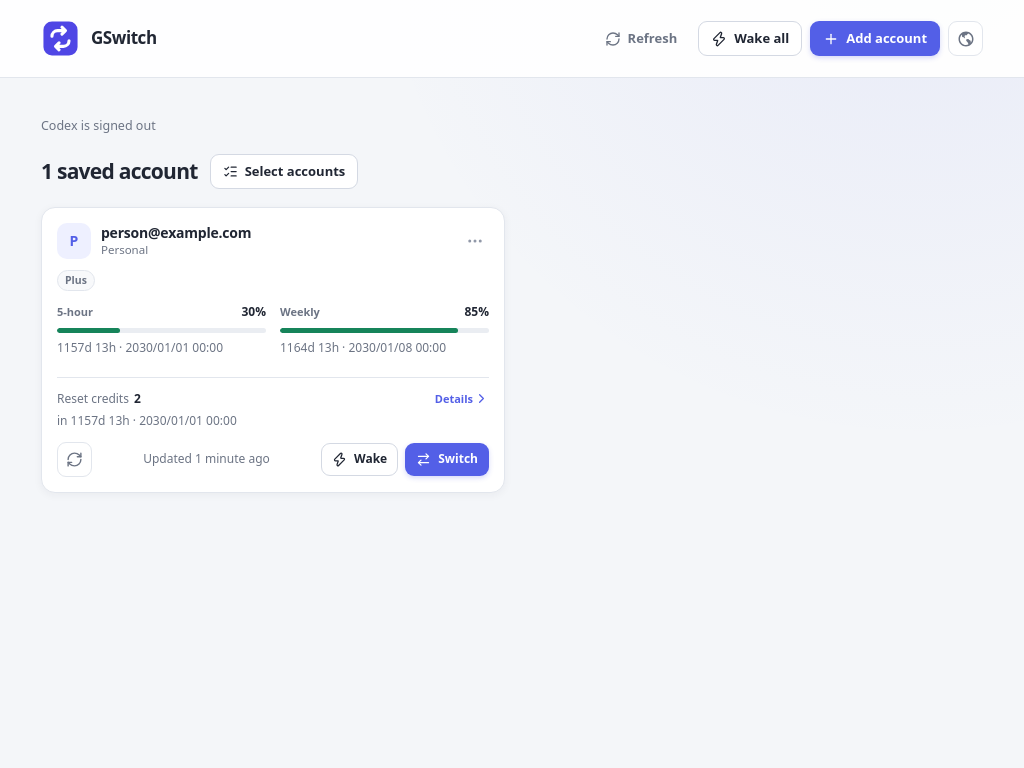
Test case: GSwitch account workspace › keeps the confirmed reading current when a reset changes the account revision
The width and height of the screenshot is (1024, 768).
Expected: the text "30%" is shown, [241,303,266,320]
Click the button "Details".
click(462, 398)  # box [435,391,489,406]
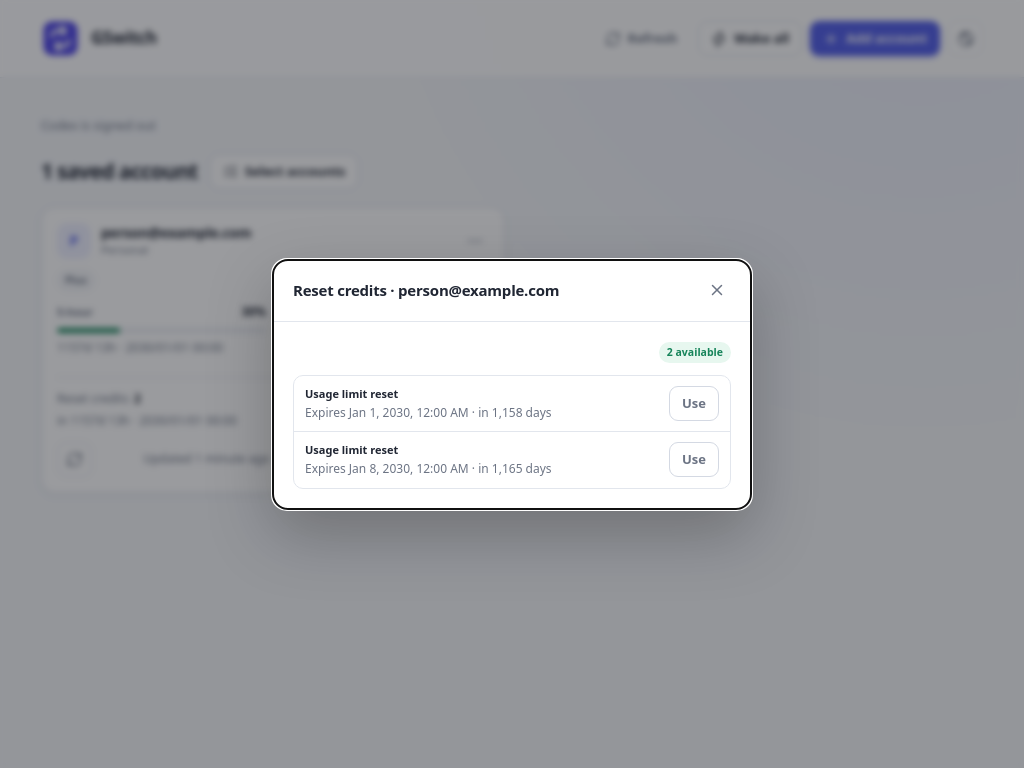
Click the button with aria-label "Use the reset credit expiring".
click(694, 403)  # box [669,386,719,420]
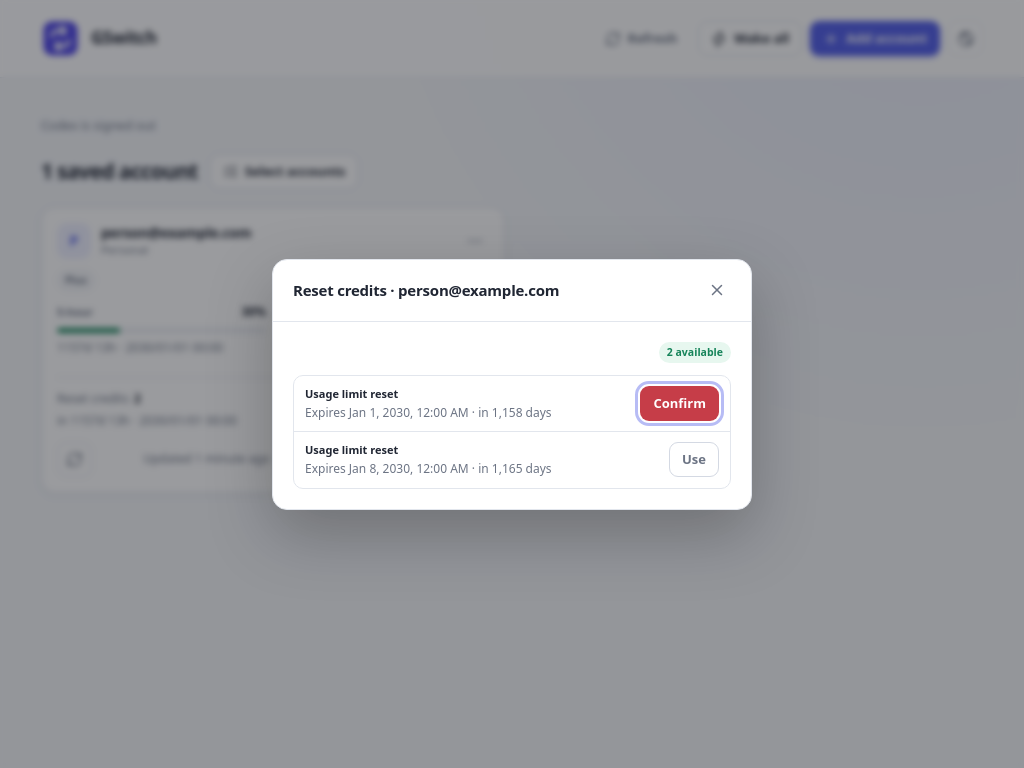
Click the button with aria-label "Confirm the reset credit expiring".
click(680, 403)  # box [640,386,719,420]
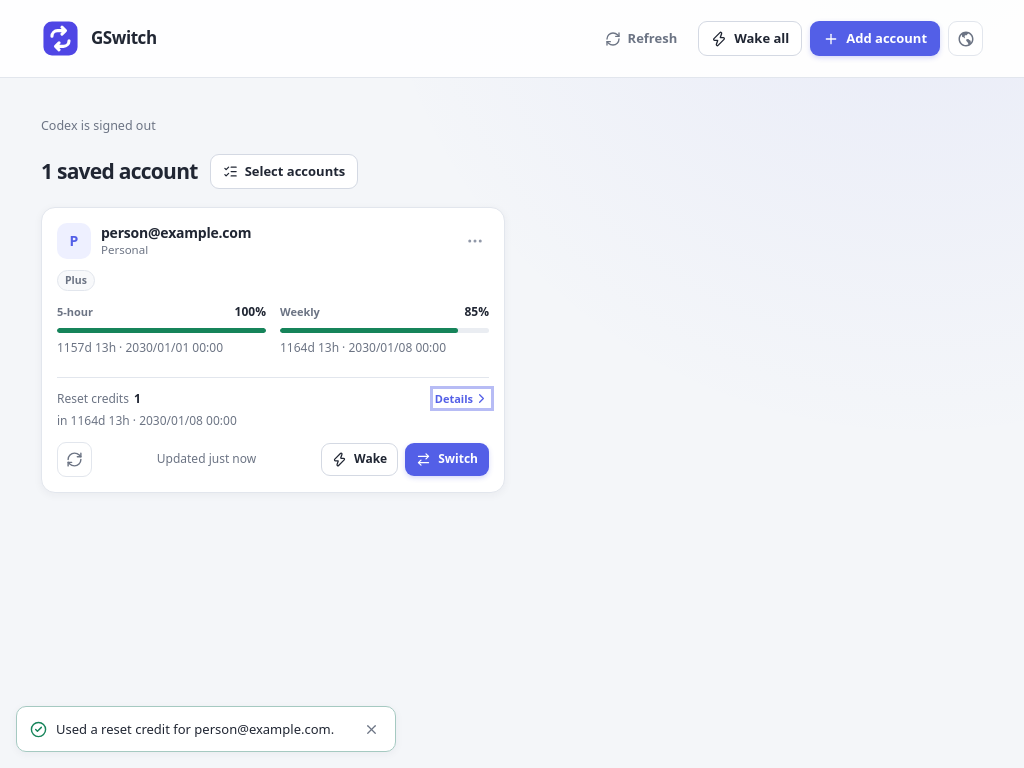
Expected: the text "Used a reset credit for person@example.com." is shown, [56,720,350,738]
Expected: the text "100%" is shown, [235,303,266,320]
